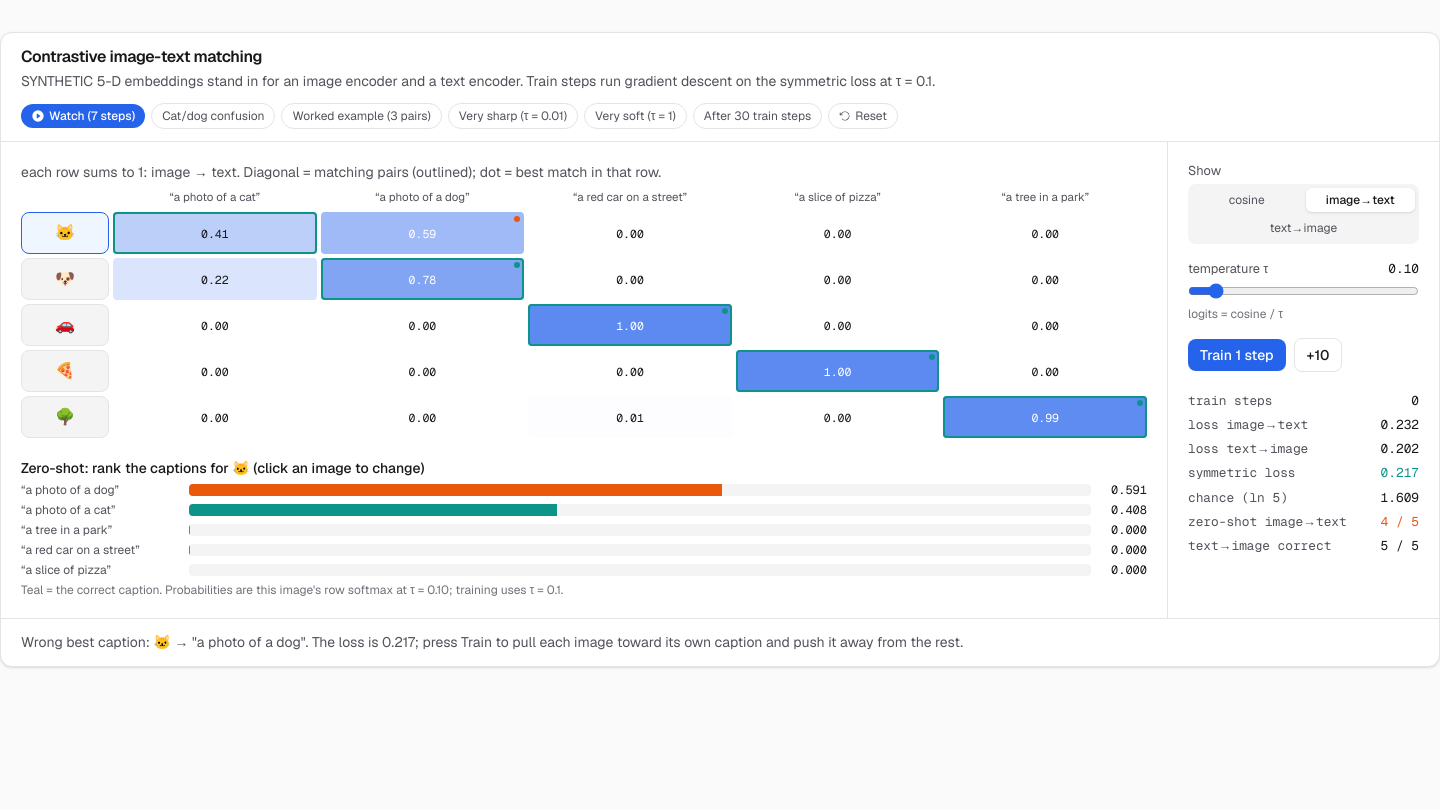
lab UI › renders, trains, and presets work
The width and height of the screenshot is (1440, 810).
Expected: the text "Wrong best caption" is shown, [21, 633, 963, 651]
Click the button "After 30 train steps": (758, 116) [693, 103, 822, 129]
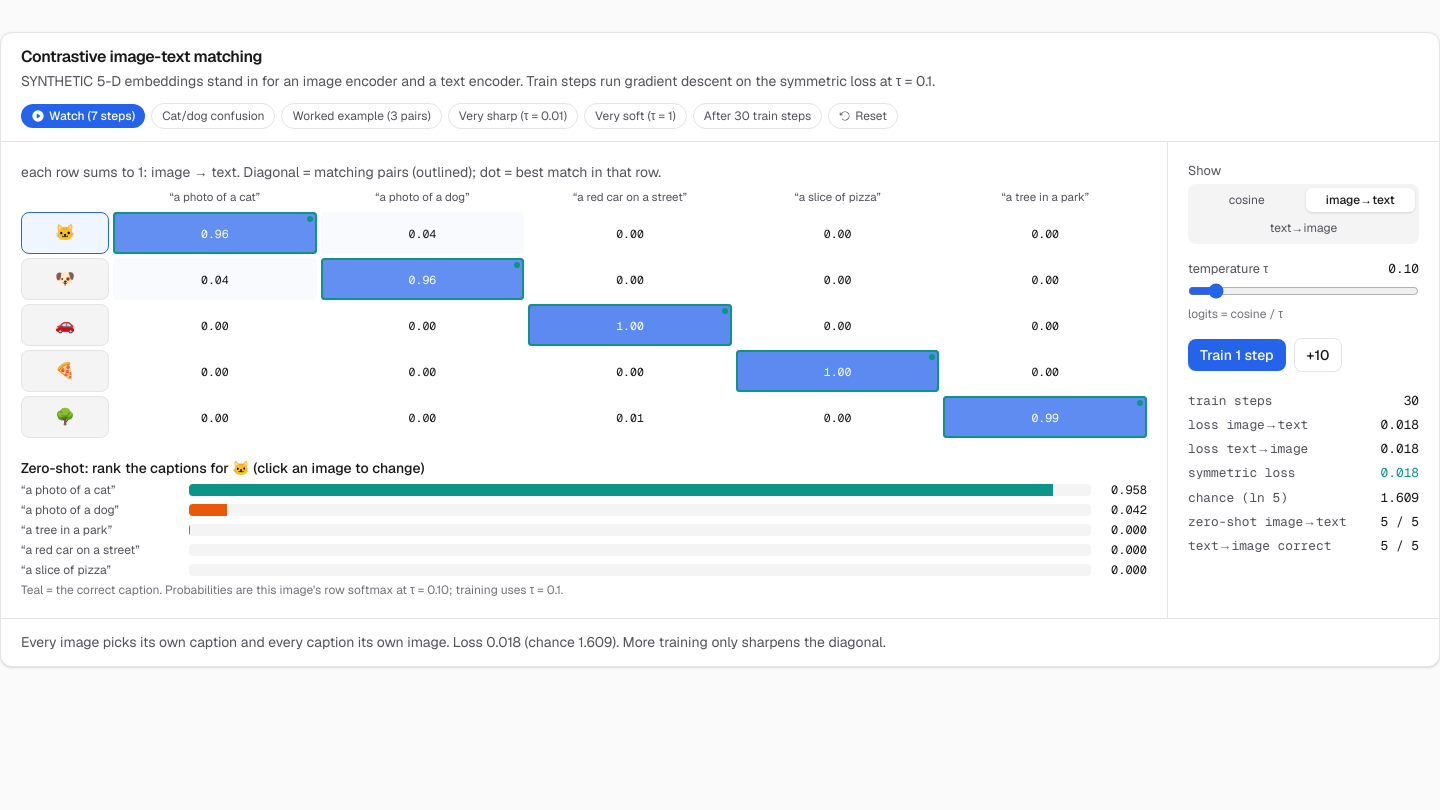
Result: the text "Every image picks its own caption" is shown at [21, 633, 886, 651]
Click the button "Very soft (τ = 1)": (635, 116) [584, 103, 687, 129]
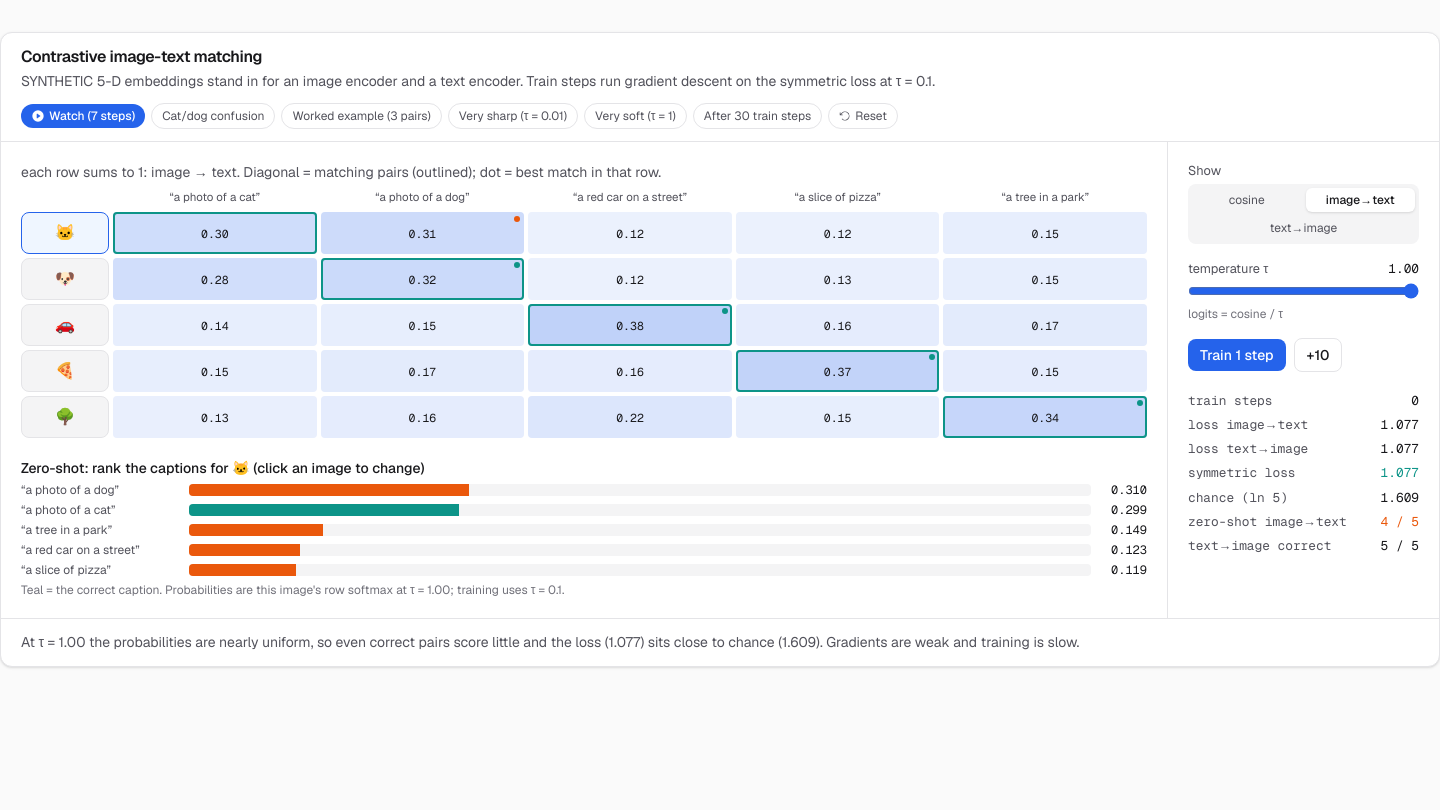
Result: the text "nearly uniform" is shown at [21, 633, 1079, 651]
